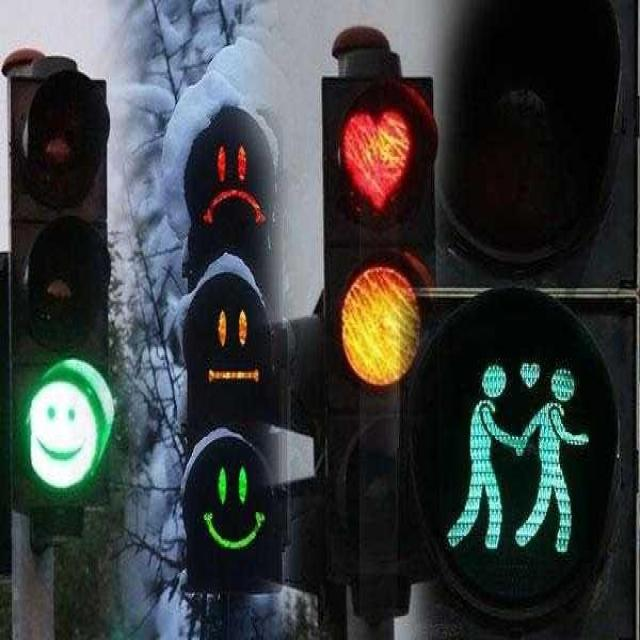Traffic Light -Green-: (15, 336, 116, 507)
Traffic Light -Red-: (330, 86, 422, 215)
Traffic Light -Yellow-: (328, 240, 433, 397)
